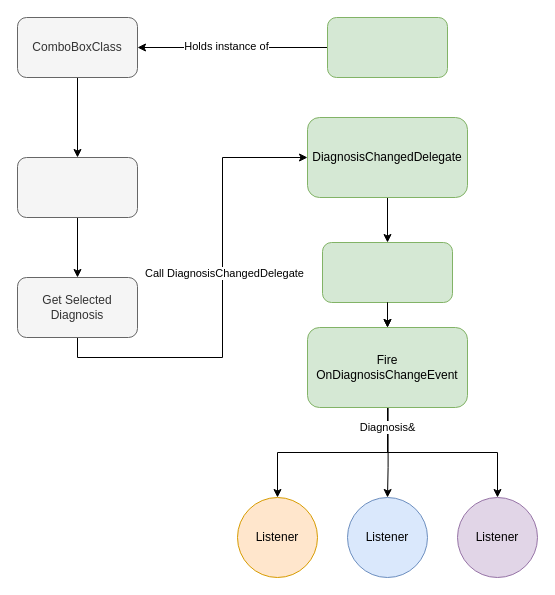
Some shapes in this 555 by 595 pixel diagram are drawn without their labels. Each missing label, with the centre of its shape:
Registers event chagned: the point at 77,187
Retrieve diagnosis reference from the diagnosis registery: the point at 387,272
Simulation manager: the point at 387,47
